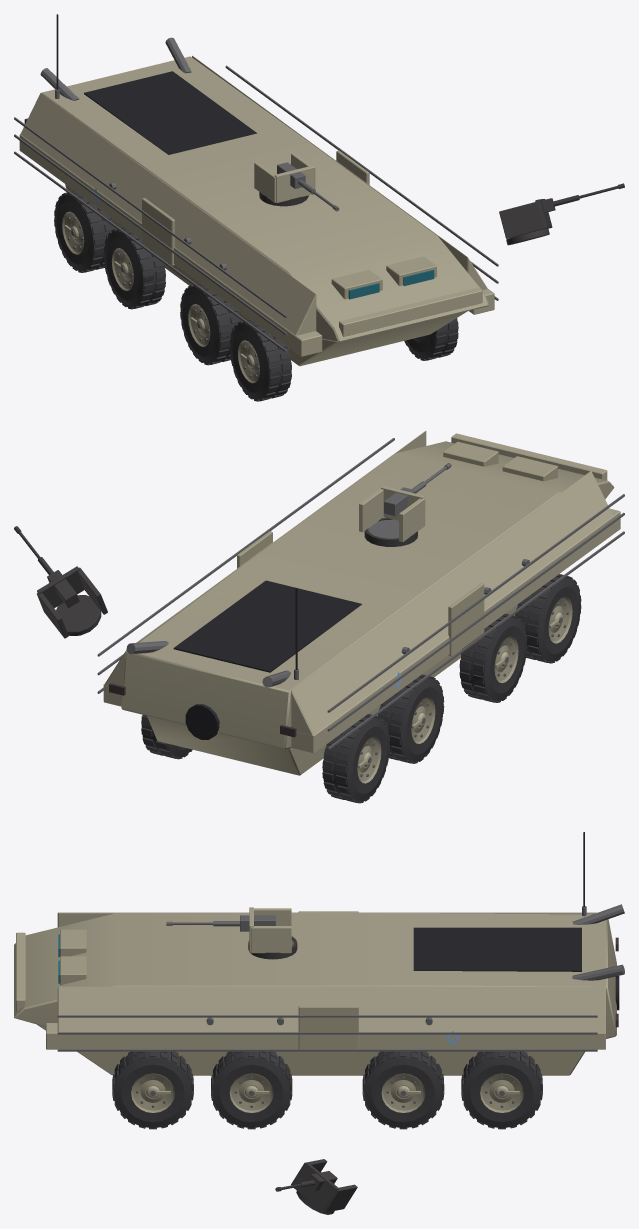
Rendered from apc__btr_60_mrap.glb.
3 views of the same model, one above another, from view 1: azimuth 30°, elevation 25°; view 2: azimuth 150°, elevation 25°; view 3: azimuth 270°, elevation 25° (orthographic). The views are drawn at different scales.
Visible parts, largest first — view 1: Hull_Mesh, Wheel_L3_Mesh, Wheel_L1_Mesh, Wheel_L0_Mesh, Wheel_L2_Mesh, Wreck, Turret_Mesh, Wheel_R3_Mesh, Gun_Mesh; view 2: Hull_Mesh, Wheel_L0_Mesh, Wheel_L2_Mesh, Wreck, Wheel_L1_Mesh, Wheel_L3_Mesh, Turret_Mesh, Wheel_R0_Mesh, Gun_Mesh; view 3: Hull_Mesh, Wheel_R1_Mesh, Wheel_R0_Mesh, Wheel_R2_Mesh, Wheel_R3_Mesh, Wreck, Turret_Mesh, Gun_Mesh.
Part boxes in pixels (x1=…): Hull_Mesh: x1=14, y1=14, x2=498, y2=366; Wheel_L3_Mesh: x1=229, y1=319, x2=291, y2=401; Wheel_L1_Mesh: x1=103, y1=227, x2=165, y2=309; Wheel_L0_Mesh: x1=54, y1=190, x2=114, y2=272; Wheel_L2_Mesh: x1=180, y1=283, x2=240, y2=365; Wreck: x1=89, y1=183, x2=624, y2=363; Turret_Mesh: x1=254, y1=153, x2=315, y2=202; Wheel_R3_Mesh: x1=404, y1=318, x2=458, y2=360; Gun_Mesh: x1=277, y1=162, x2=339, y2=211; Hull_Mesh: x1=97, y1=431, x2=624, y2=775; Wheel_L0_Mesh: x1=322, y1=714, x2=390, y2=803; Wheel_L2_Mesh: x1=459, y1=613, x2=527, y2=702; Wreck: x1=14, y1=517, x2=548, y2=792; Wheel_L1_Mesh: x1=378, y1=674, x2=444, y2=763; Wheel_L3_Mesh: x1=515, y1=574, x2=581, y2=663; Turret_Mesh: x1=359, y1=486, x2=425, y2=541; Wheel_R0_Mesh: x1=141, y1=715, x2=192, y2=759; Gun_Mesh: x1=384, y1=463, x2=451, y2=516; Hull_Mesh: x1=14, y1=832, x2=624, y2=1075; Wheel_R1_Mesh: x1=362, y1=1051, x2=444, y2=1129; Wheel_R0_Mesh: x1=461, y1=1051, x2=542, y2=1129; Wheel_R2_Mesh: x1=211, y1=1051, x2=292, y2=1129; Wheel_R3_Mesh: x1=112, y1=1051, x2=193, y2=1129; Wreck: x1=248, y1=936, x2=357, y2=1214; Turret_Mesh: x1=249, y1=907, x2=293, y2=953; Gun_Mesh: x1=166, y1=915, x2=275, y2=931.
Size of what is drawn, in the model's own units: 6.6 by 3.07 by 7.81.
